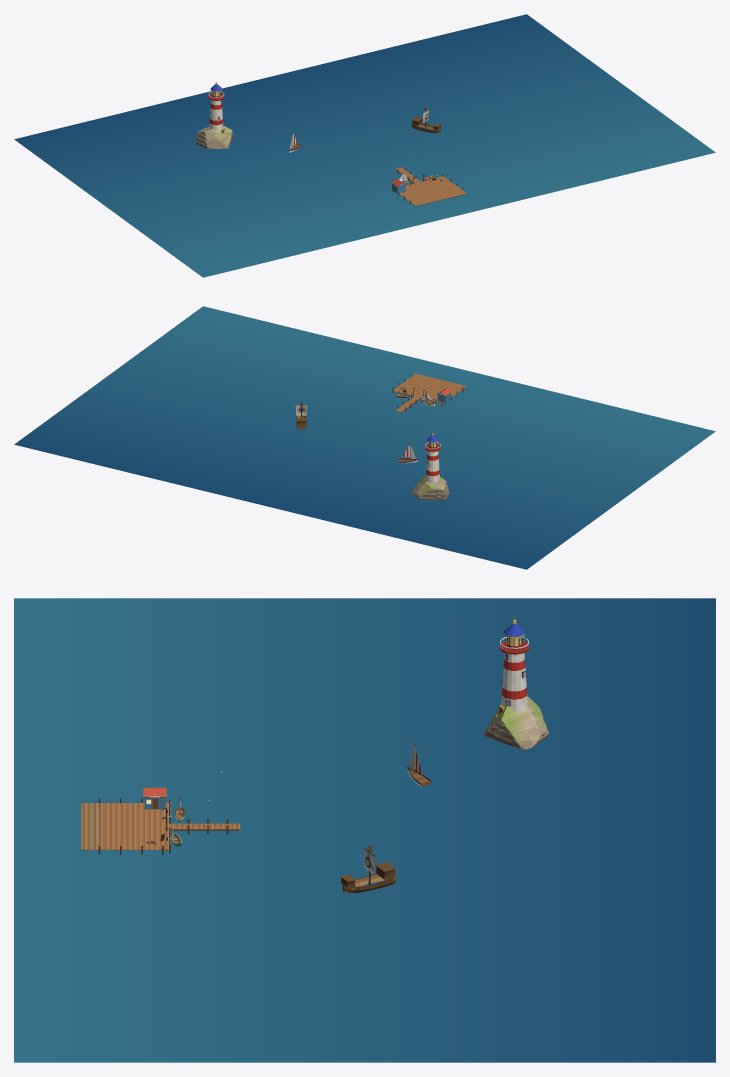
The model's file is pier.glb.
3 renders of one model, top to bottom at view 1: azimuth 30°, elevation 25°; view 2: azimuth 150°, elevation 25°; view 3: azimuth 270°, elevation 25°, orthographic. The views are drawn at different scales.
Visible parts, largest first — view 1: Water, LighthouseRock, Lighthouse; view 2: Water, LighthouseRock, Lighthouse; view 3: Water, Lighthouse, LighthouseRock, Ship.
Boxes of the visible parts, left/top/right/bottom form: Water: left=14, top=14, right=715, bottom=277; LighthouseRock: left=196, top=126, right=233, bottom=148; Lighthouse: left=208, top=82, right=224, bottom=138; Water: left=14, top=306, right=715, bottom=569; LighthouseRock: left=411, top=475, right=449, bottom=500; Lighthouse: left=424, top=433, right=440, bottom=483; Water: left=14, top=598, right=715, bottom=1062; Lighthouse: left=495, top=619, right=529, bottom=717; LighthouseRock: left=483, top=697, right=549, bottom=749; Ship: left=340, top=845, right=396, bottom=892.
Bounding box in the file's own units: 180 × 22.29 × 115.
